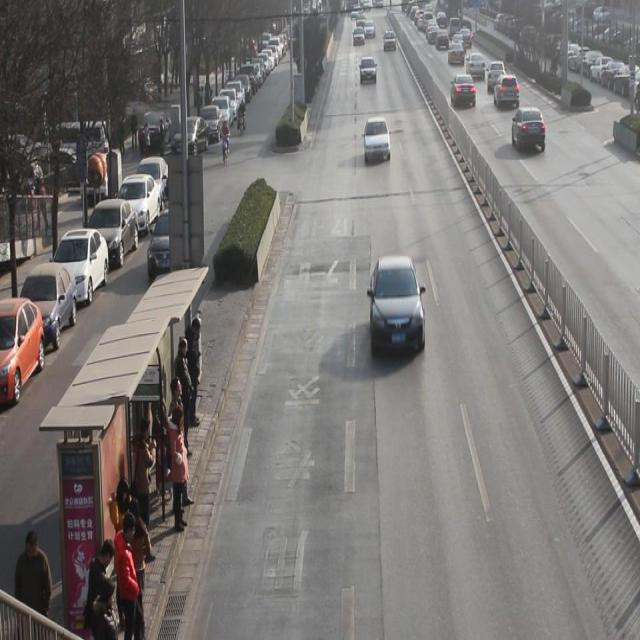car: (371, 255, 426, 355), (148, 202, 202, 280), (513, 106, 546, 150), (364, 116, 391, 163), (494, 73, 521, 108), (451, 72, 476, 107), (487, 58, 506, 90), (360, 54, 378, 86), (467, 51, 486, 81), (448, 40, 465, 66), (460, 26, 473, 49), (384, 29, 397, 52), (442, 27, 455, 46), (354, 26, 366, 46), (364, 18, 375, 38)
